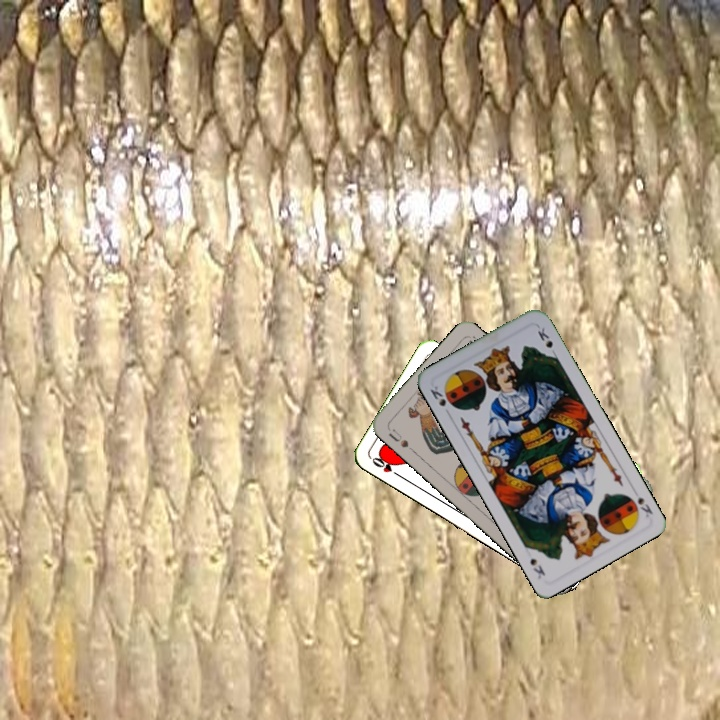HO: (368, 453, 404, 480)
SK: (624, 485, 655, 520), (426, 382, 449, 409)
SU: (384, 424, 417, 455)
